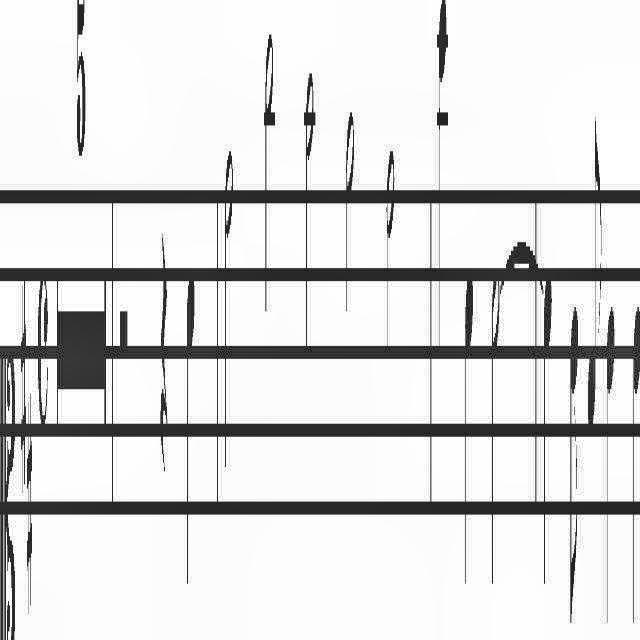Diez: (18, 274, 26, 524), (26, 371, 34, 613)
Eighth-note: (586, 109, 602, 451), (568, 302, 580, 640)
Half-note: (261, 4, 279, 348), (304, 5, 318, 388), (221, 140, 235, 500), (384, 130, 400, 418), (492, 257, 501, 609), (342, 71, 353, 341)
Quarter-note: (460, 189, 476, 616), (184, 224, 200, 624), (434, 0, 449, 388), (542, 252, 554, 600), (604, 298, 616, 640), (632, 276, 640, 640)
Quarter-rest: (158, 182, 170, 502)
